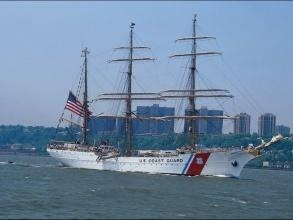fanchuan: (41, 14, 274, 179)
